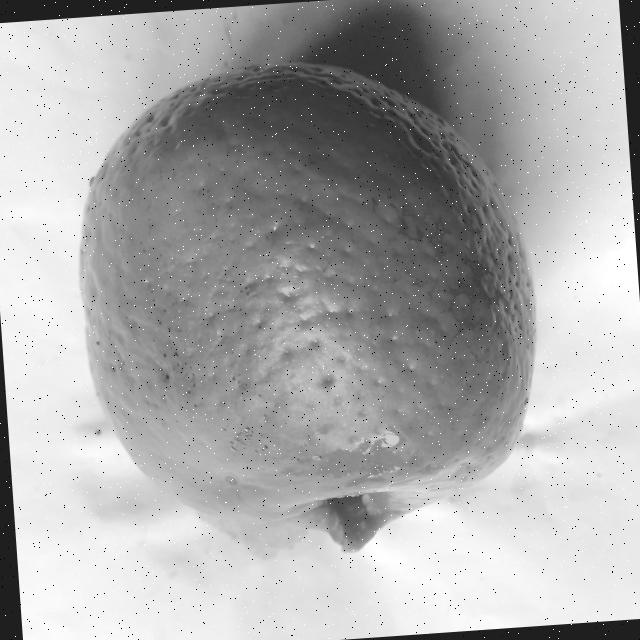Rotten: (62, 44, 551, 569)
